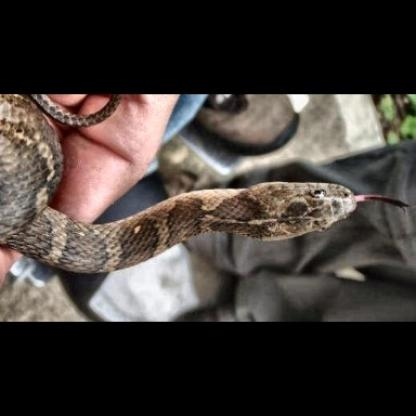Snake: (6, 109, 408, 298)
